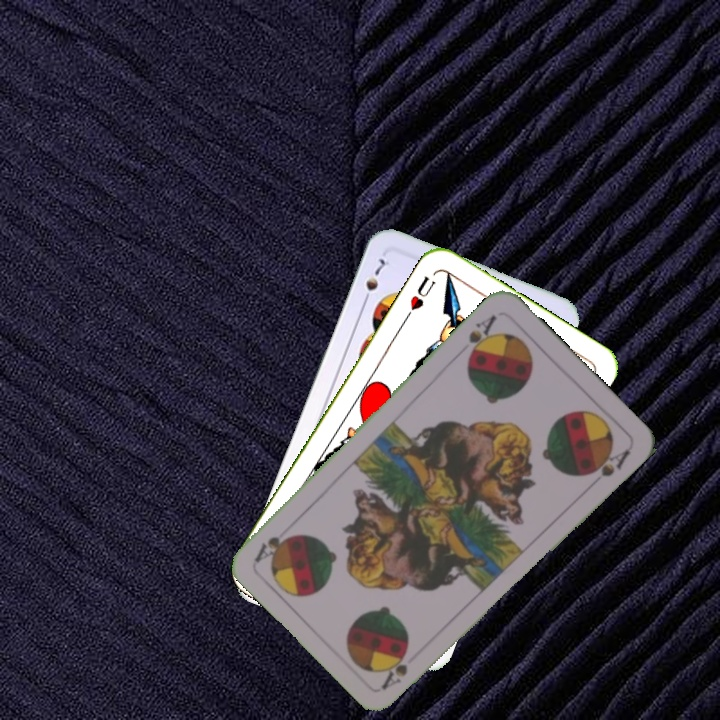HU: (405, 272, 438, 313)
S7: (358, 255, 388, 308)
SA: (463, 310, 500, 363), (378, 649, 411, 692)
